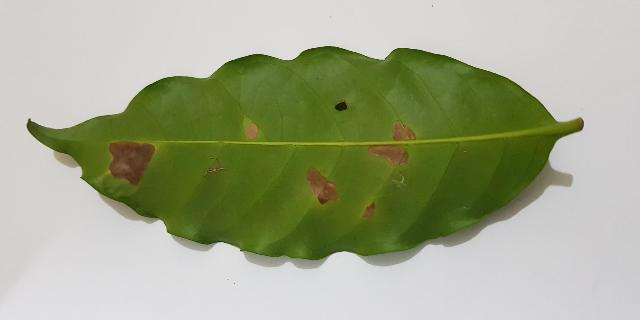cercospora: (108, 141, 156, 188), (368, 121, 416, 166), (307, 168, 339, 206), (205, 162, 225, 175), (362, 202, 376, 220), (246, 123, 259, 140)
